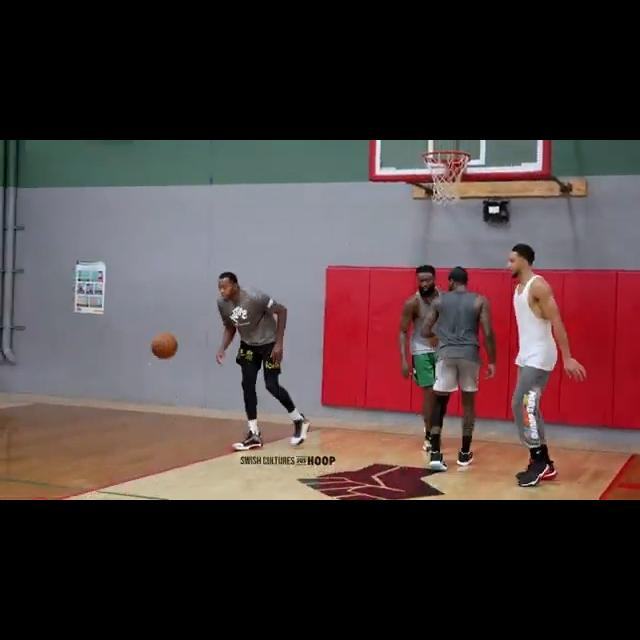basketball: (151, 332, 178, 360)
hoop: (423, 151, 471, 208)
